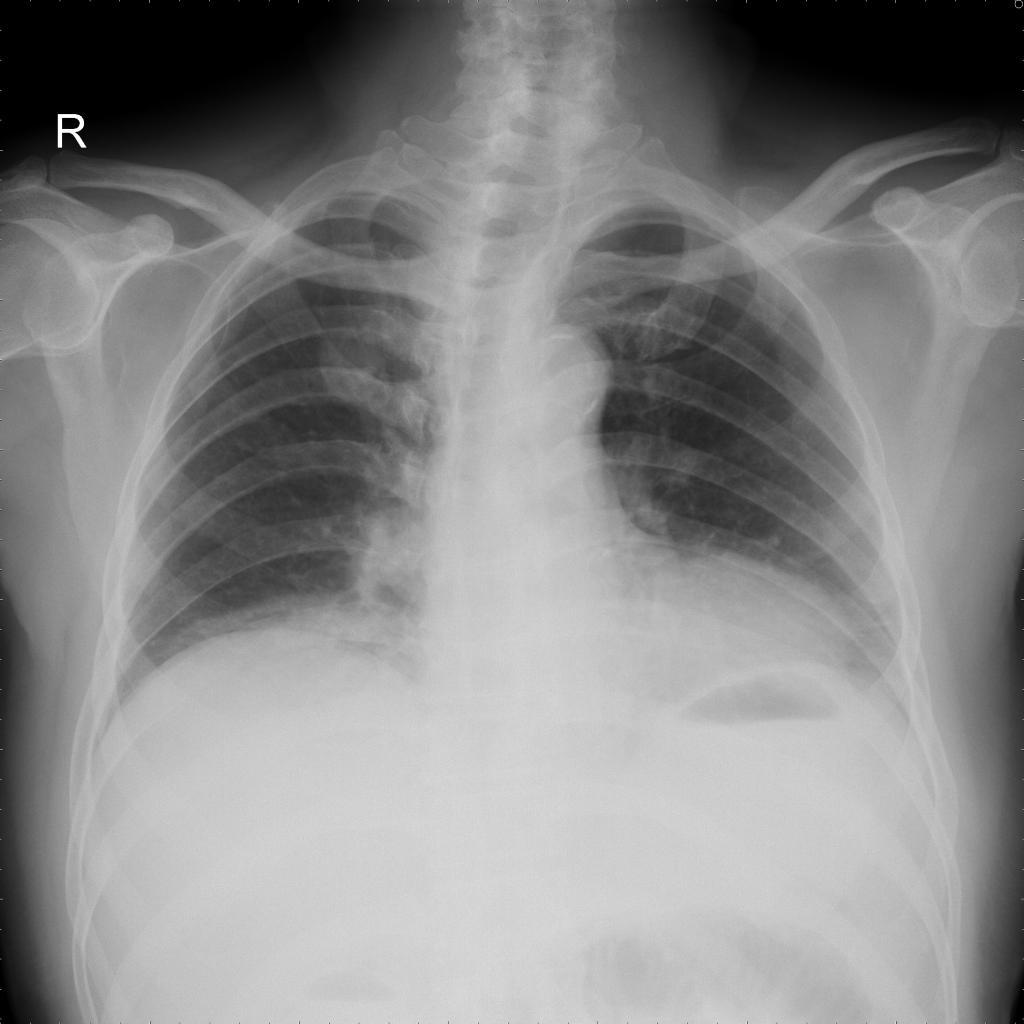Nodule: (322, 327, 384, 406)
